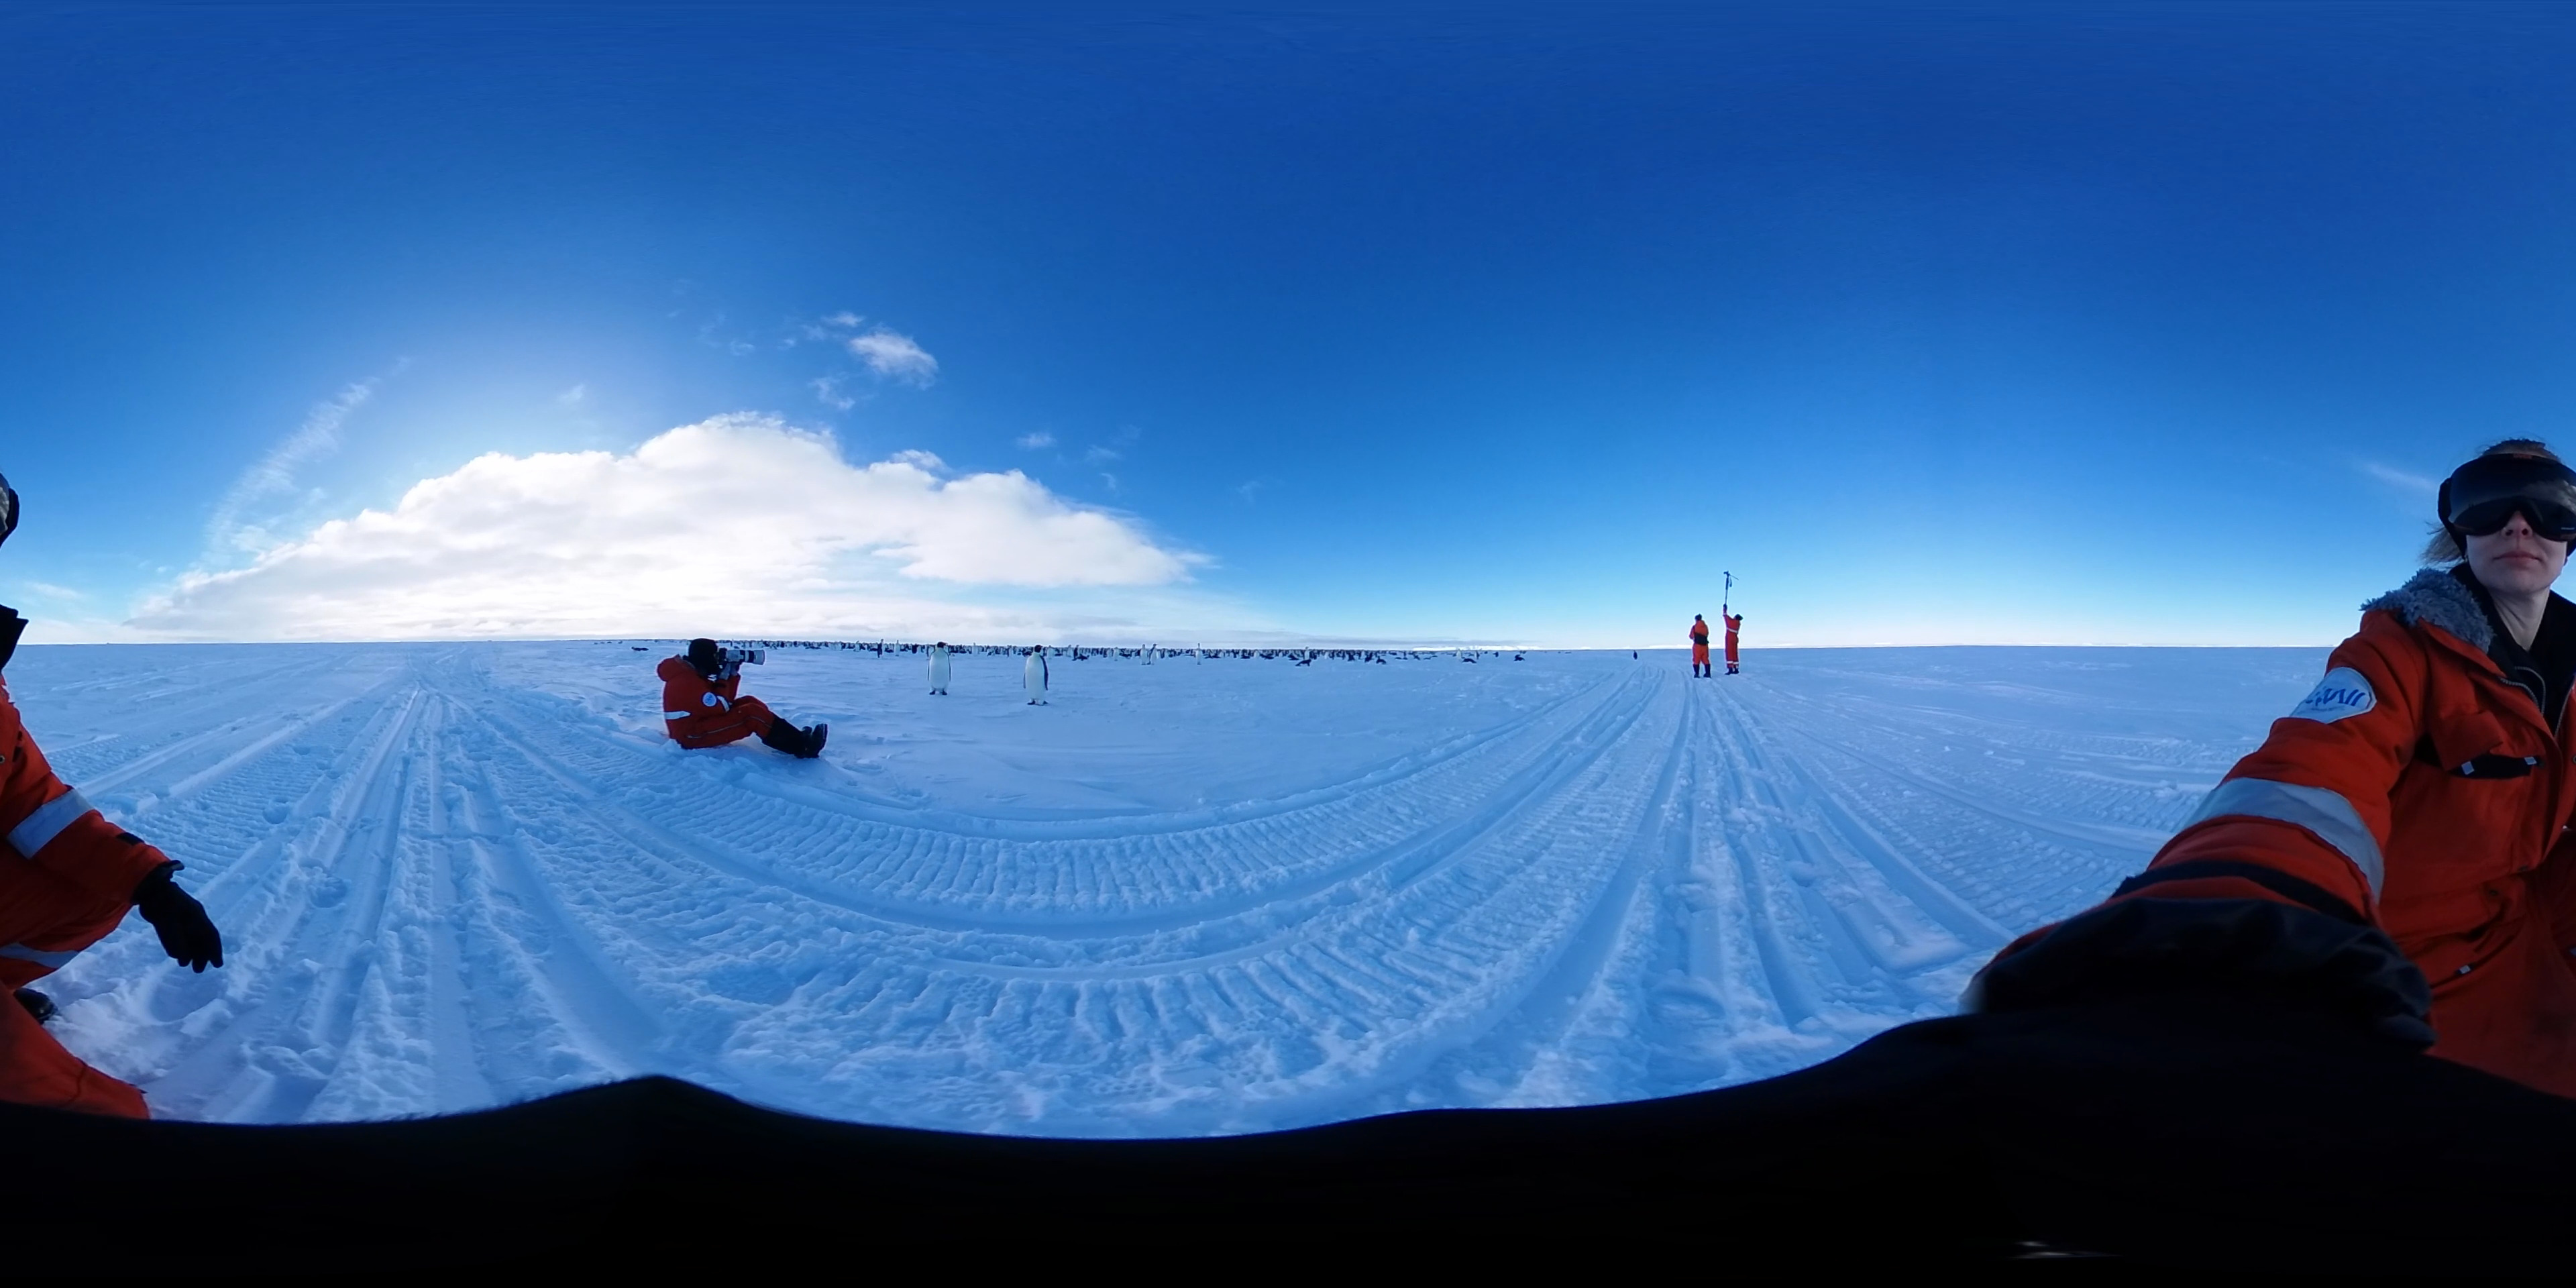adult_standing_penguin: (1020, 642, 1050, 708), (925, 639, 953, 698), (1152, 639, 1165, 670), (1191, 642, 1204, 667), (1138, 642, 1148, 667)
researcher: (651, 634, 831, 762), (1720, 601, 1745, 677), (1687, 613, 1712, 680)
